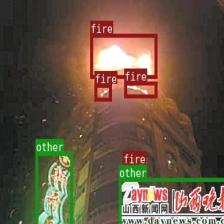fire: (90, 33, 156, 78), (124, 80, 157, 97), (94, 83, 111, 100), (122, 164, 132, 178)
